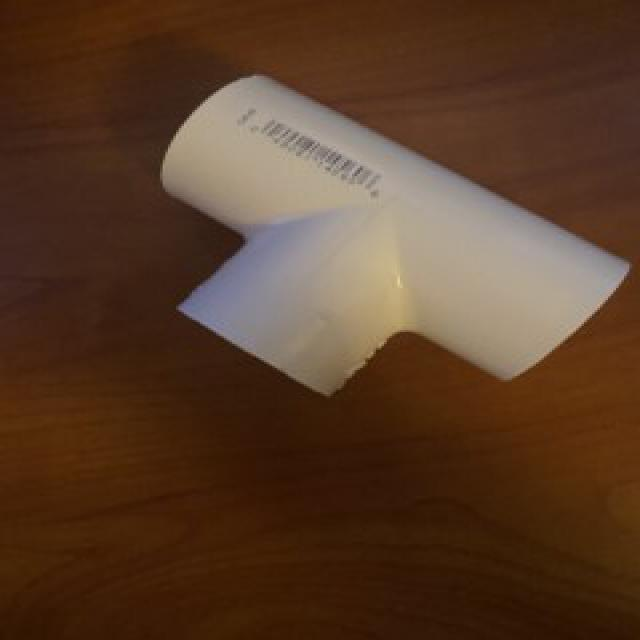T Joint: (158, 75, 632, 399)
